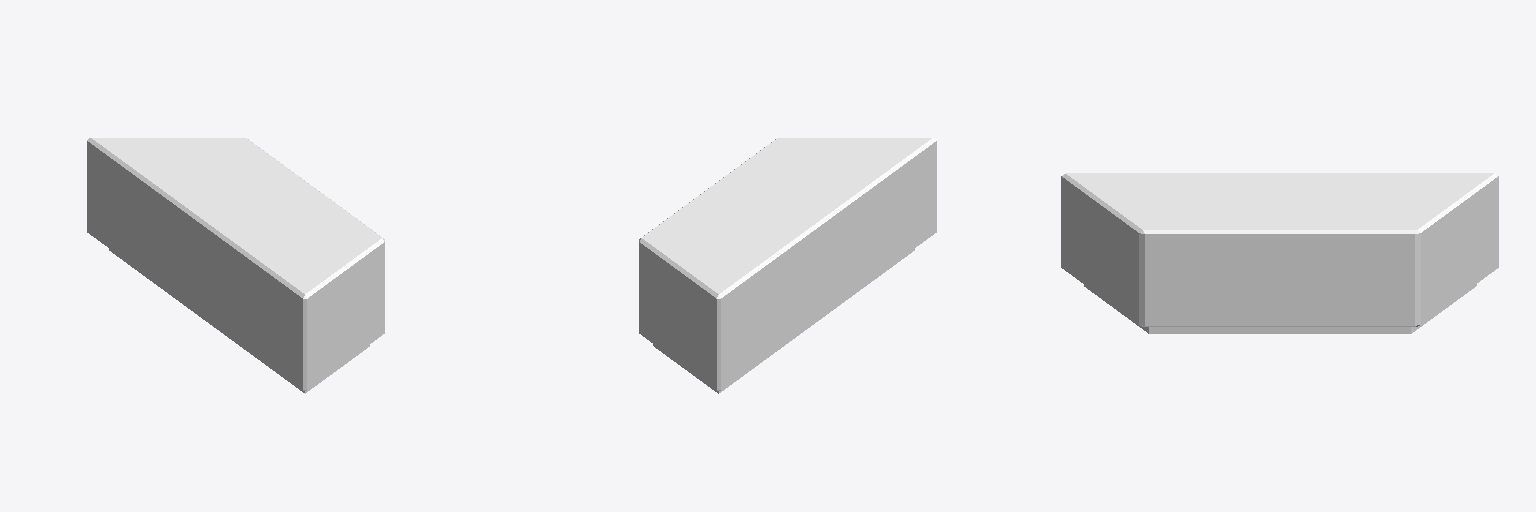
The model's file is Chair_4.obj.
3 renders of one model, left to right at view 1: azimuth 30°, elevation 25°; view 2: azimuth 150°, elevation 25°; view 3: azimuth 270°, elevation 25°, orthographic.
Visible parts, largest first — view 1: Mesh181_Group156_Component_4_4_Component_1_4_Model.1; view 2: Mesh181_Group156_Component_4_4_Component_1_4_Model.1; view 3: Mesh181_Group156_Component_4_4_Component_1_4_Model.1.
Part boxes in pixels (x1,y1,x2,y2): Mesh181_Group156_Component_4_4_Component_1_4_Model.1: (87, 138, 384, 393); Mesh181_Group156_Component_4_4_Component_1_4_Model.1: (639, 138, 936, 393); Mesh181_Group156_Component_4_4_Component_1_4_Model.1: (1061, 173, 1498, 333).
Size of the model in its own units: 20 by 16.92 by 61.87.